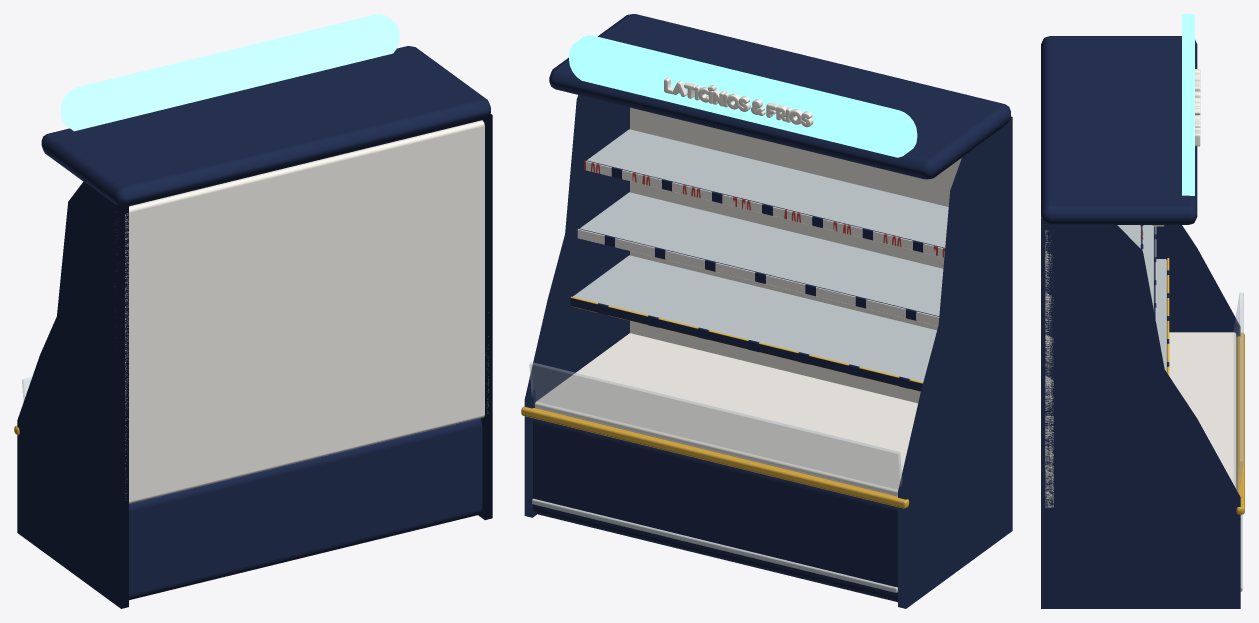
File: shelf-dairy.fbx
3 views of the same model, side by side, from view 1: azimuth 30°, elevation 25°; view 2: azimuth 150°, elevation 25°; view 3: azimuth 270°, elevation 25° (orthographic). The views are drawn at different scales.
Parts seen in each view (by area): view 1: Body; view 2: Body; view 3: Body.
Part boxes in pixels (<box>): Body: <box>14,14,492,608</box>; Body: <box>521,14,1012,608</box>; Body: <box>1041,14,1244,608</box>.
Bounding box in the file's own units: 1.92 × 2.22 × 0.94.
